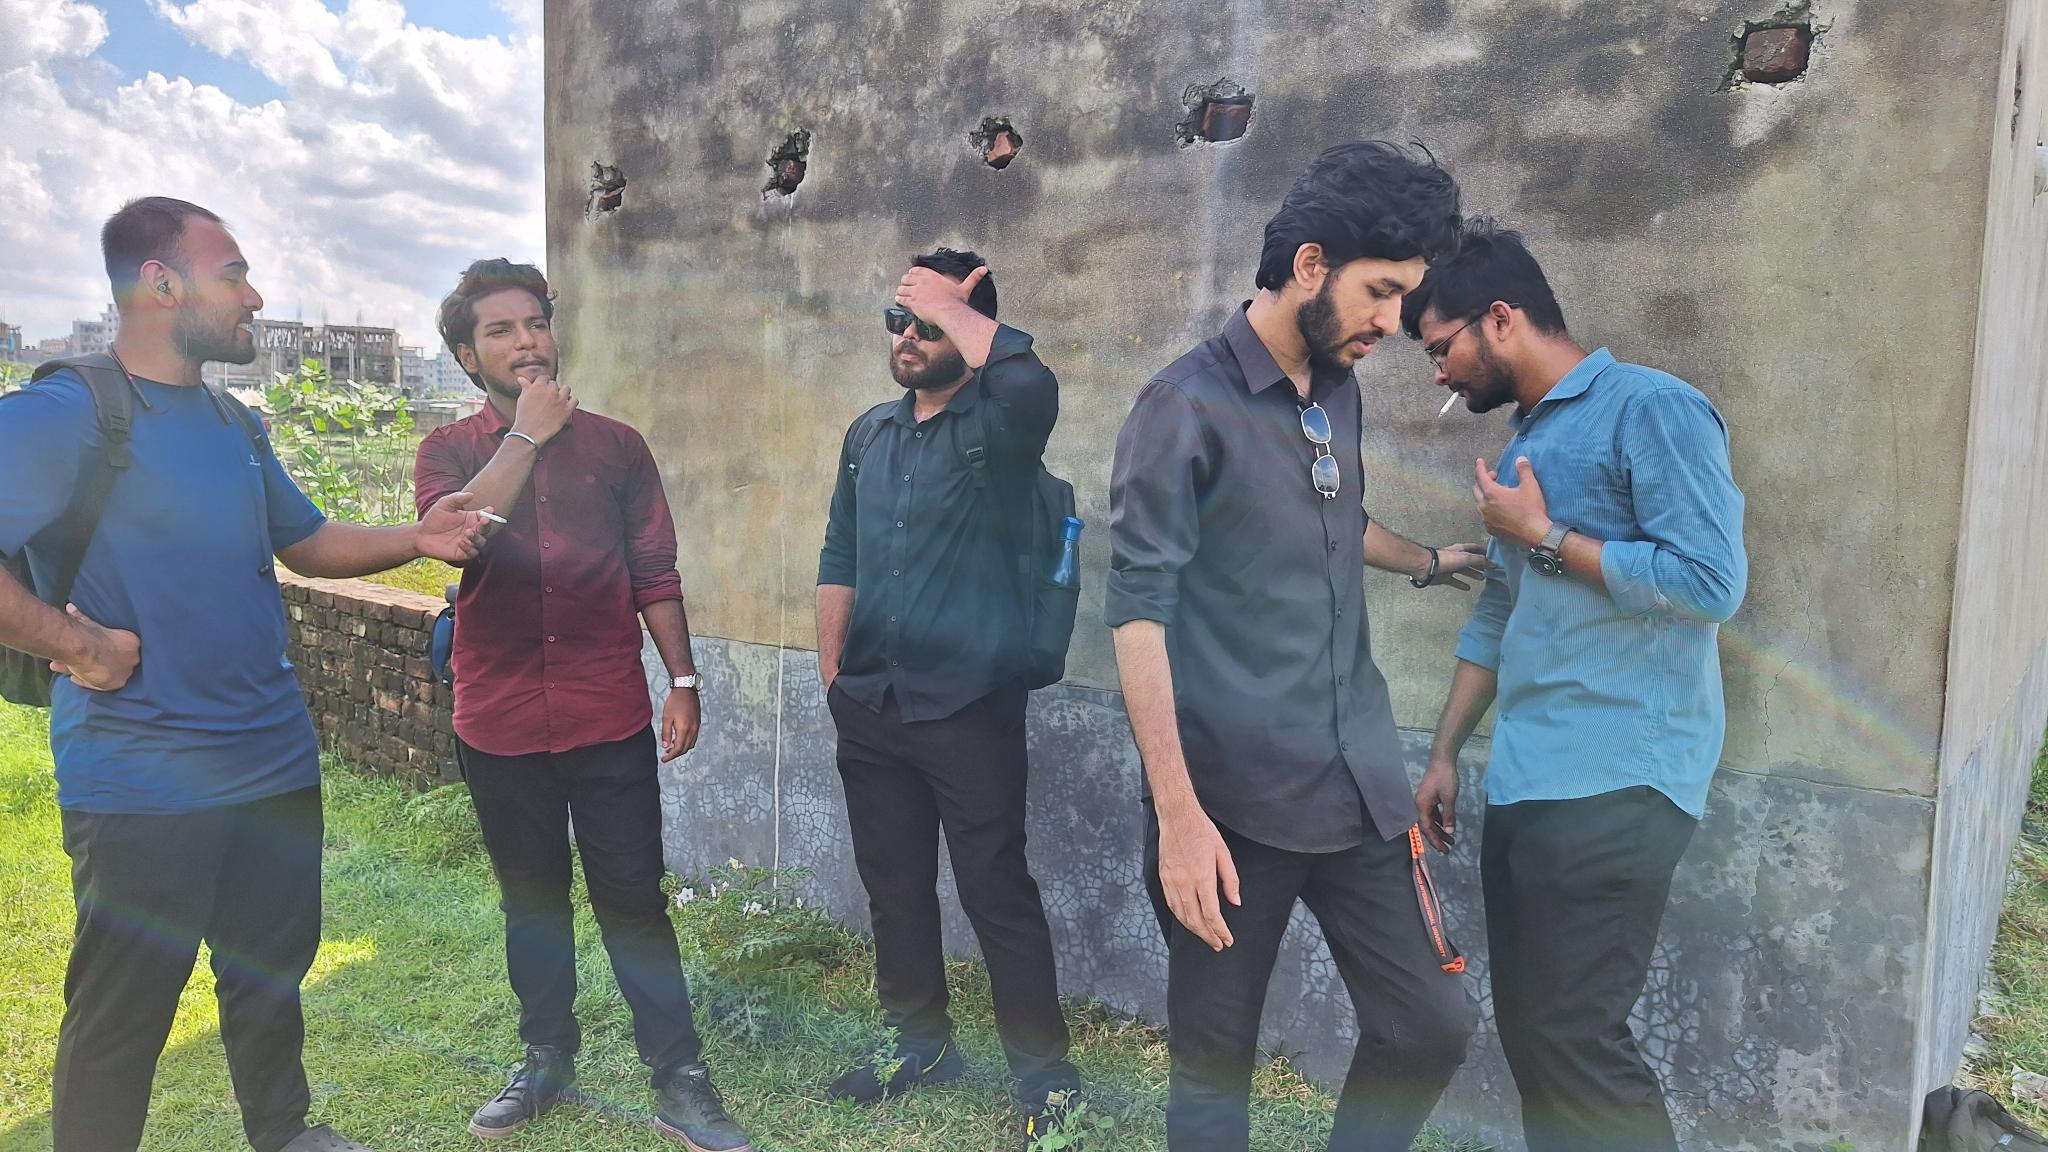cigarette: (1435, 390, 1461, 421), (478, 509, 509, 526)
nonSmoker: (1108, 141, 1484, 1152), (415, 257, 753, 1152), (816, 250, 1086, 1152)
smoker: (0, 196, 497, 1152), (1402, 226, 1750, 1152)
